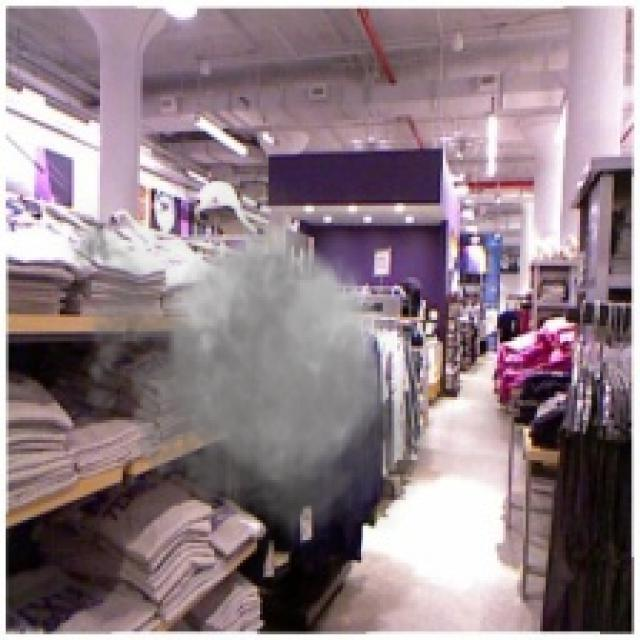Smoke: (60, 151, 446, 560)
